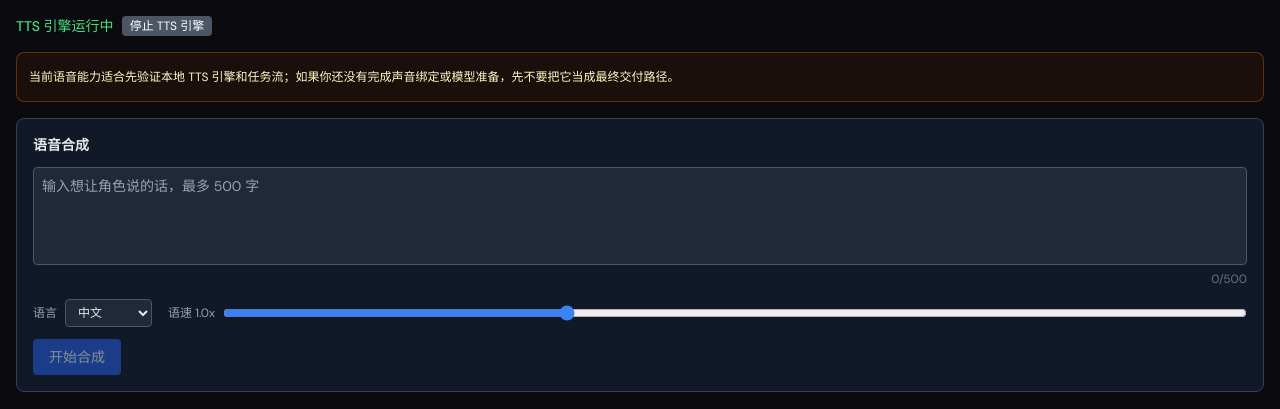
shows character count
Type "好" into the text box with placeholder "输入想让角色说的话，最多 500 字" at [640, 216], box [33,167,1247,265]
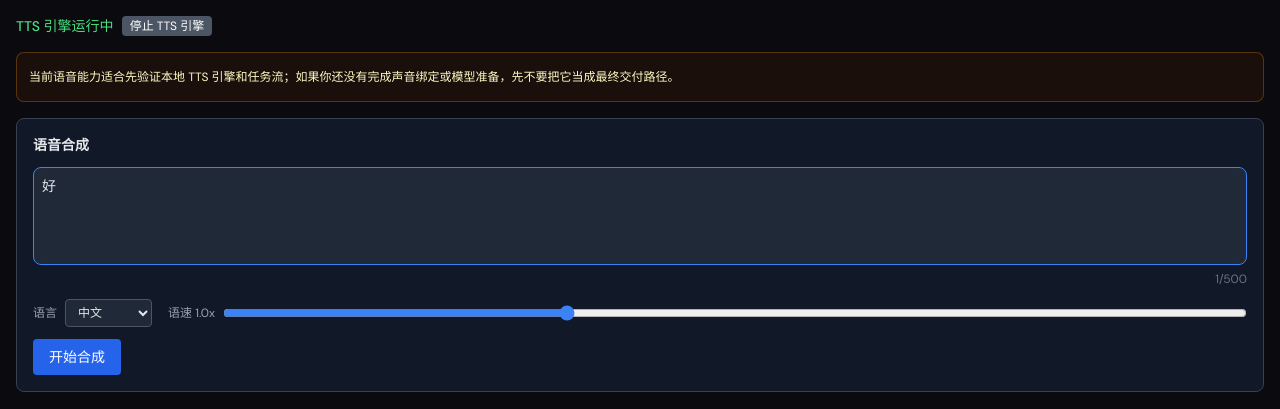
Check: the text "1/500" is shown, box [1215,271,1247,287]
